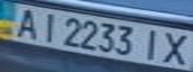2: (57, 15, 84, 48), (78, 17, 100, 52)
3: (115, 23, 139, 57), (97, 20, 118, 55)
A: (6, 6, 45, 39)
I: (136, 27, 166, 61), (33, 10, 63, 43)
X: (157, 29, 193, 66)
